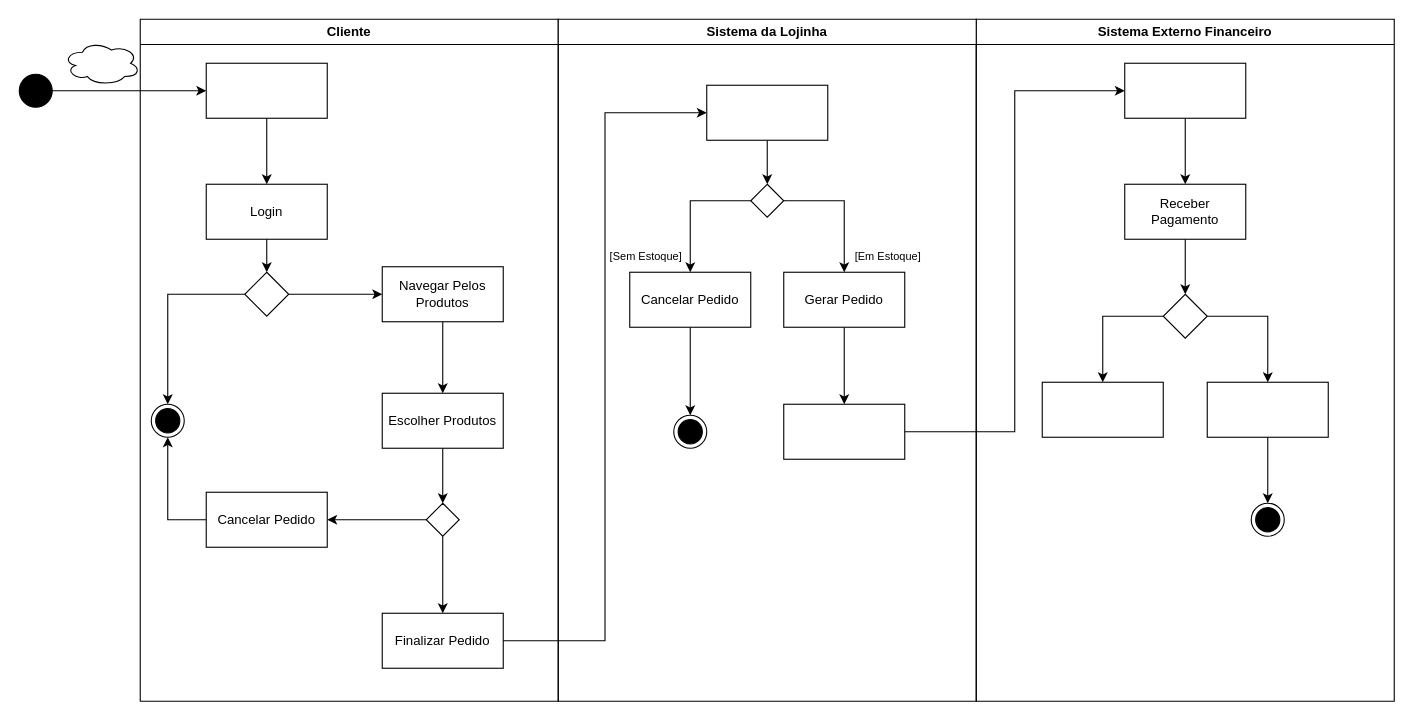
Some shapes in this 1414 by 721 pixel diagram are drawn without their labels. Here are the shapes that lost their labels. From the top down, the centre of each, then its label:
the point at 266,90: Acessar Site
the point at 1185,90: Gerar Cobrança
the point at 767,112: Conferir Estoque
the point at 1102,409: Pagamento Não Aprovado
the point at 1267,409: Pagamento Confirmado
the point at 844,431: Confirmar Pagamento
